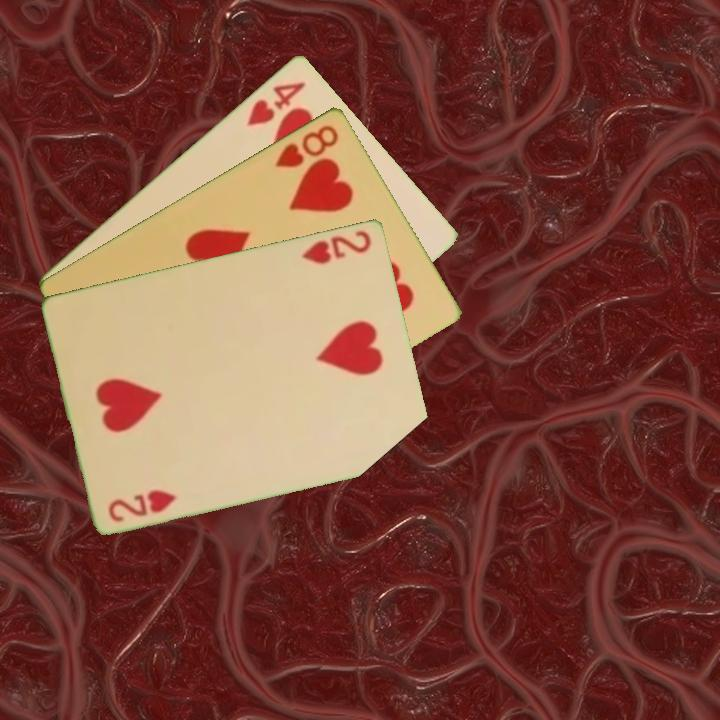2h: (299, 226, 375, 267), (105, 485, 180, 525)
4h: (243, 77, 309, 129)
8h: (272, 120, 342, 171)
